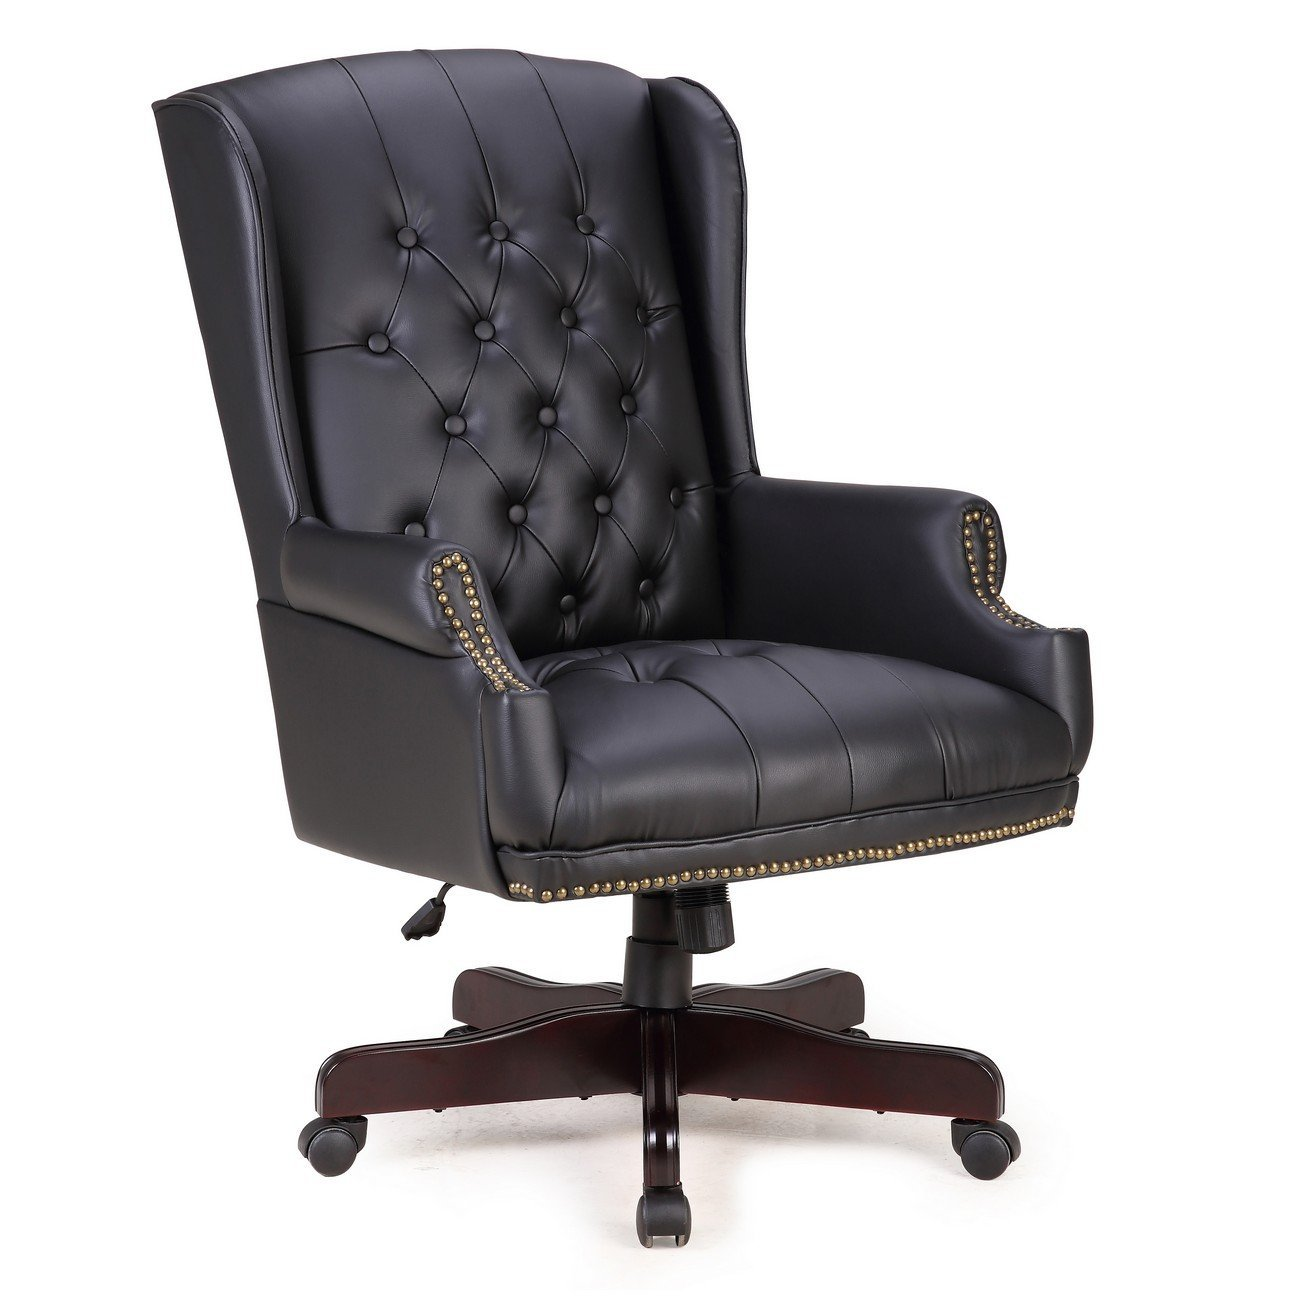chairs: (129, 48, 1105, 1257)
